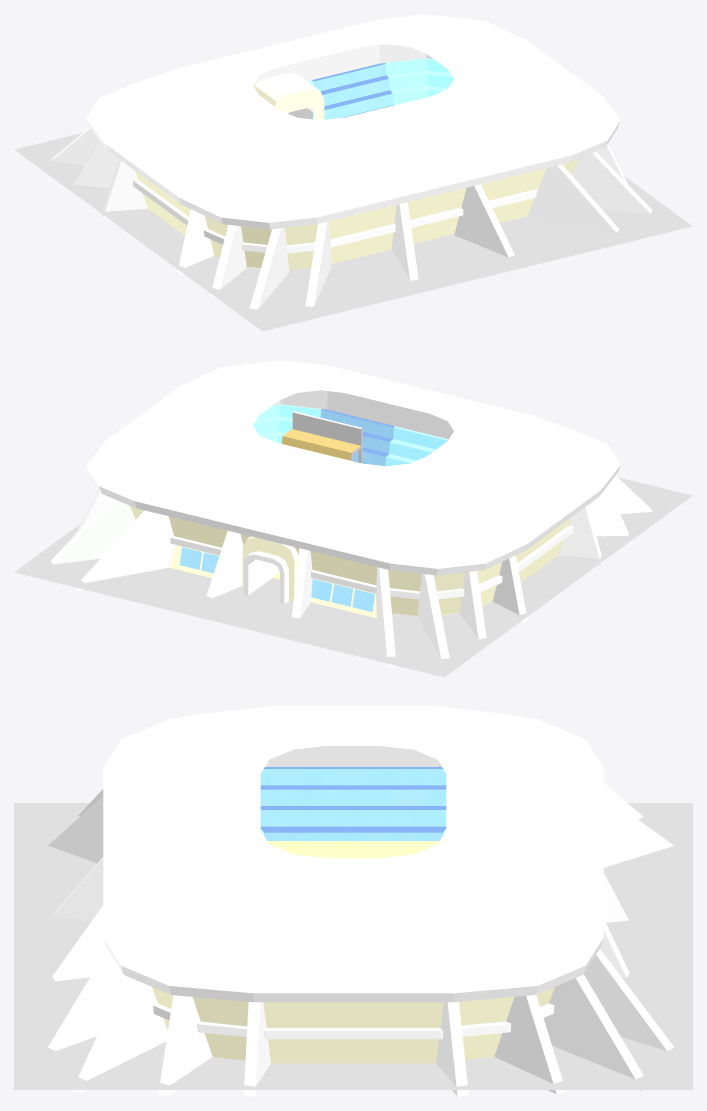
File: stadiums.009.glb
3 views of the same model, one above another, from view 1: azimuth 30°, elevation 25°; view 2: azimuth 150°, elevation 25°; view 3: azimuth 270°, elevation 25° (orthographic). The views are drawn at different scales.
Visible parts, largest first — view 1: stadiums.009(Clone); view 2: stadiums.009(Clone); view 3: stadiums.009(Clone).
Part boxes in pixels (x1,y1,x2,y2): stadiums.009(Clone): (14,14,692,331); stadiums.009(Clone): (14,360,692,677); stadiums.009(Clone): (14,706,692,1096).
Size of the model in its own units: 16 by 4.01 by 16.
Materials: 1 (1 with a texture image).
